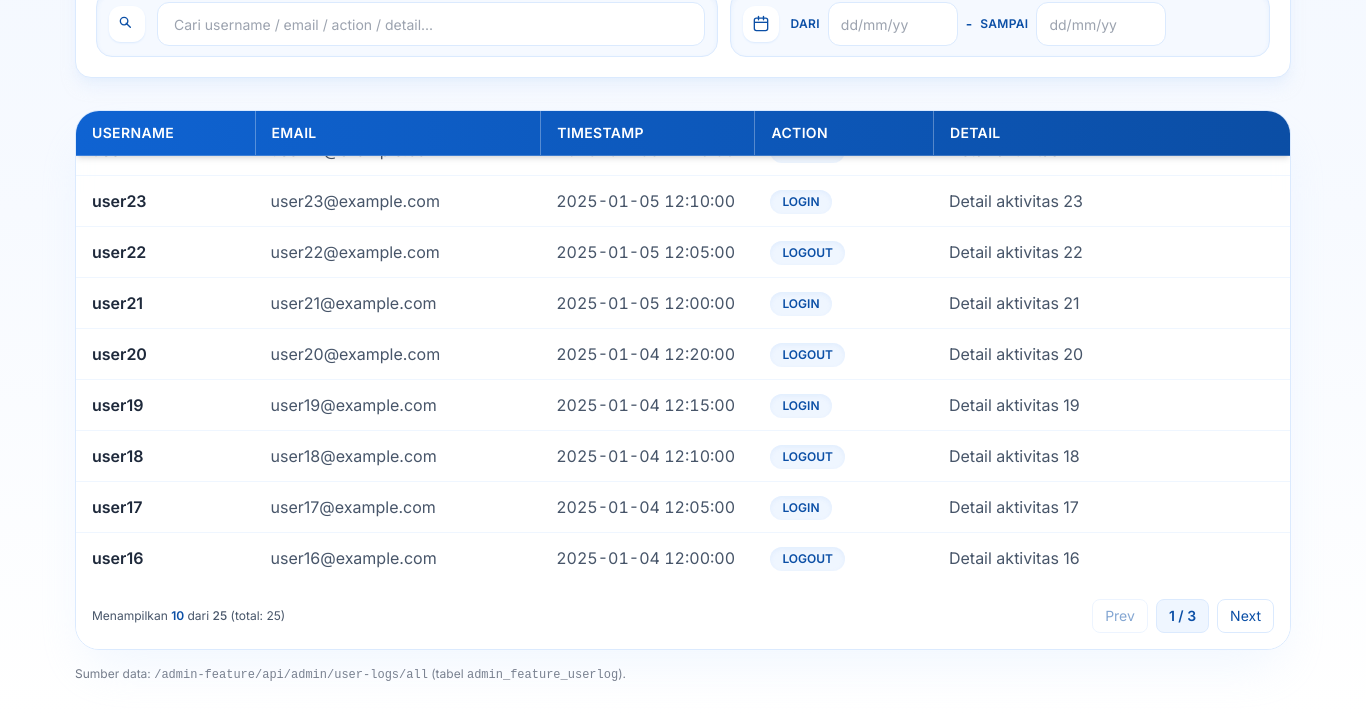
Admin User Log Page › pagination updates indicator and disables at bounds
The image size is (1366, 715).
(page scrolled)
Check: the button "Prev" is disabled, box [1092,599,1148,633]
Click the button "Next". click: (1246, 616)
box: [1217,599,1274,633]
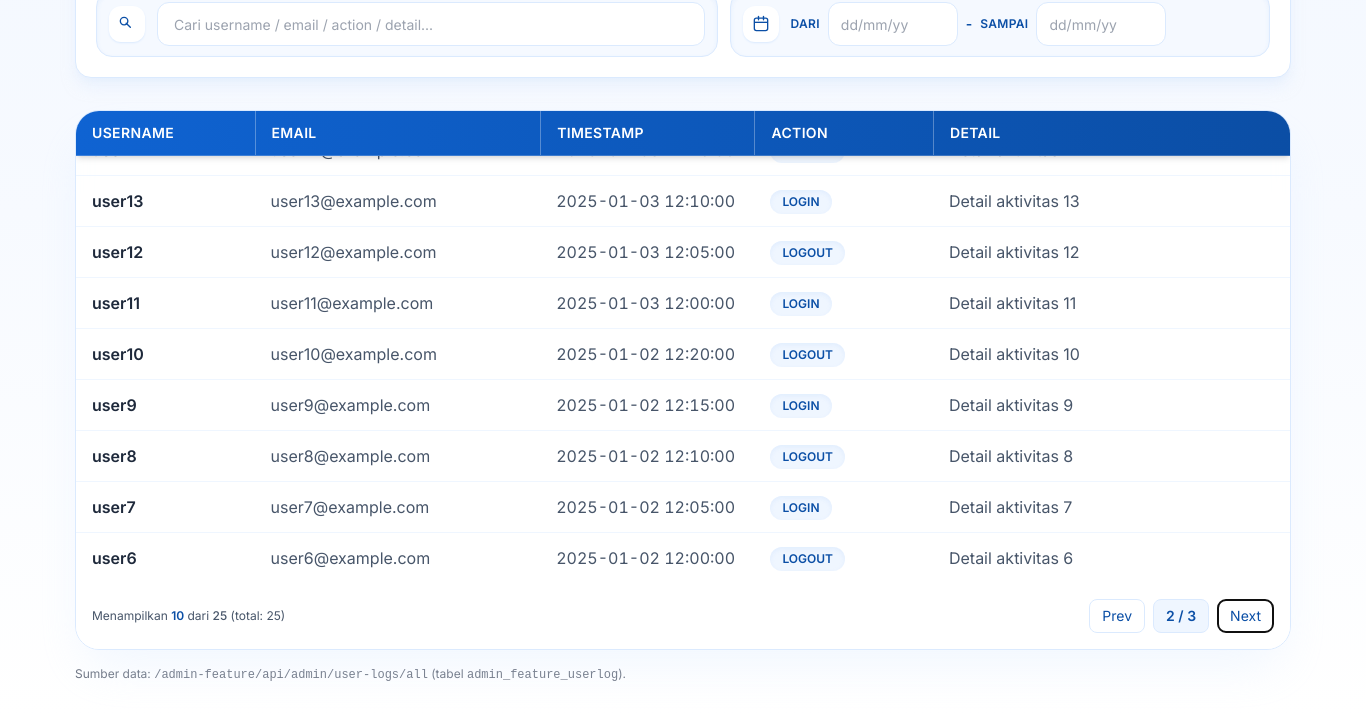
Check: the text "2 / 3" is shown, box [1153,599,1209,633]
Click the button "Next". click: (1246, 616)
box: [1217,599,1274,633]
(page scrolled)
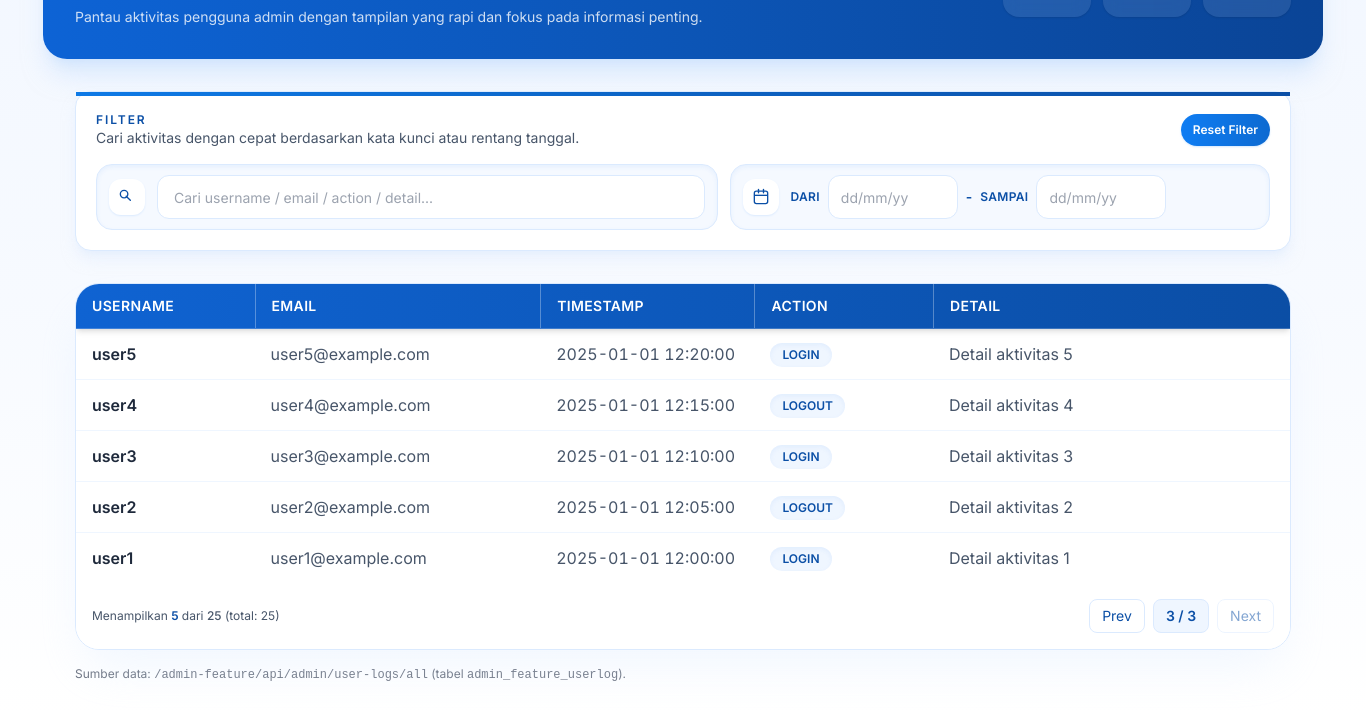
Check: the text "3 / 3" is shown, box [1153,599,1209,633]
Check: the button "Next" is disabled, box [1217,599,1274,633]
Click the button "Prev". click: (1117, 616)
box: [1089,599,1145,633]
(page scrolled)
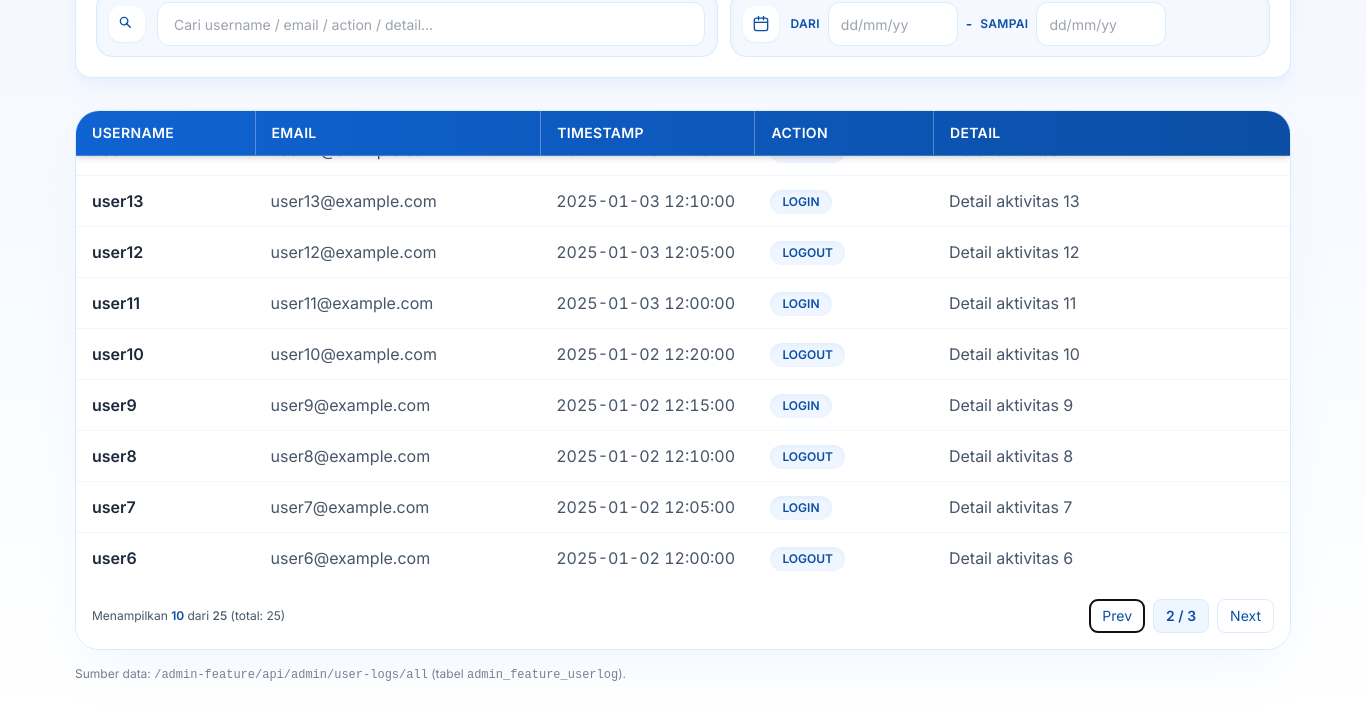
Check: the text "2 / 3" is shown, box [1153,599,1209,633]
